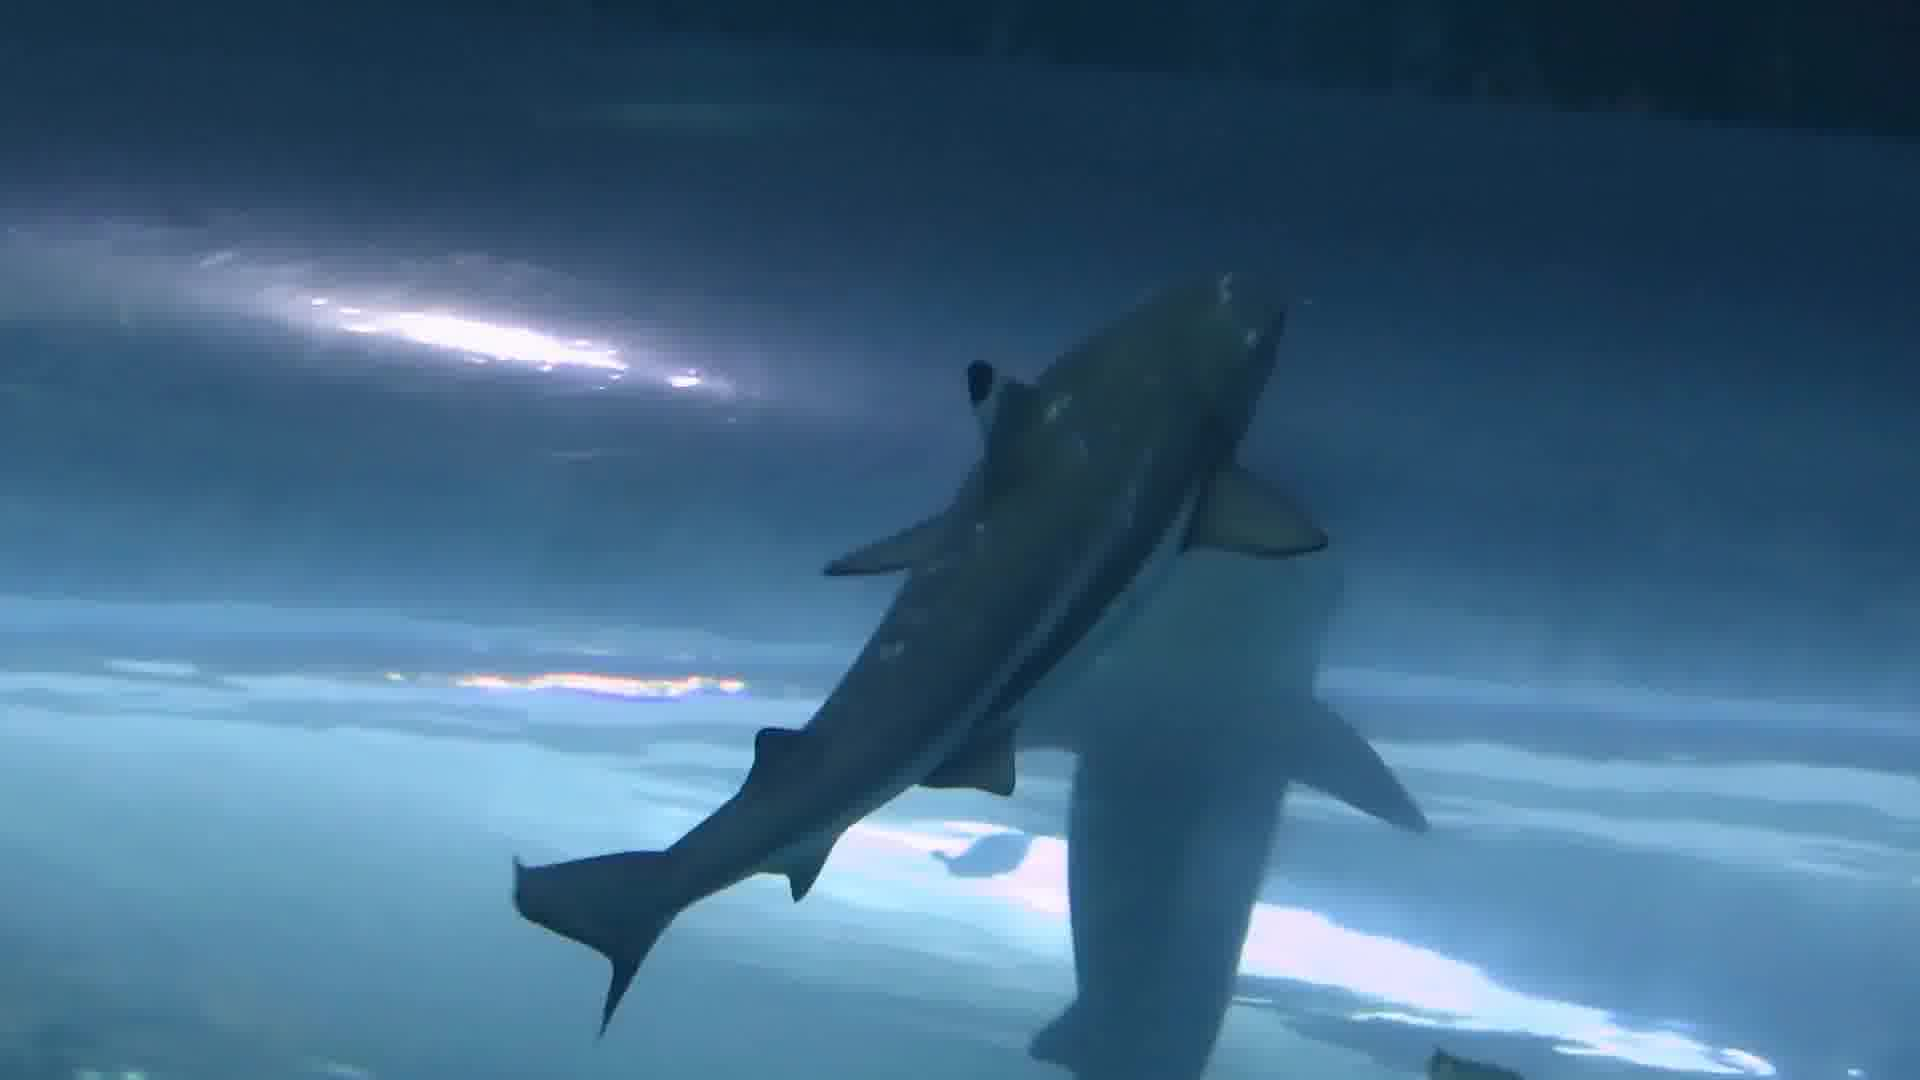Carcharhinus melanopterus: (485, 240, 1382, 1031)
